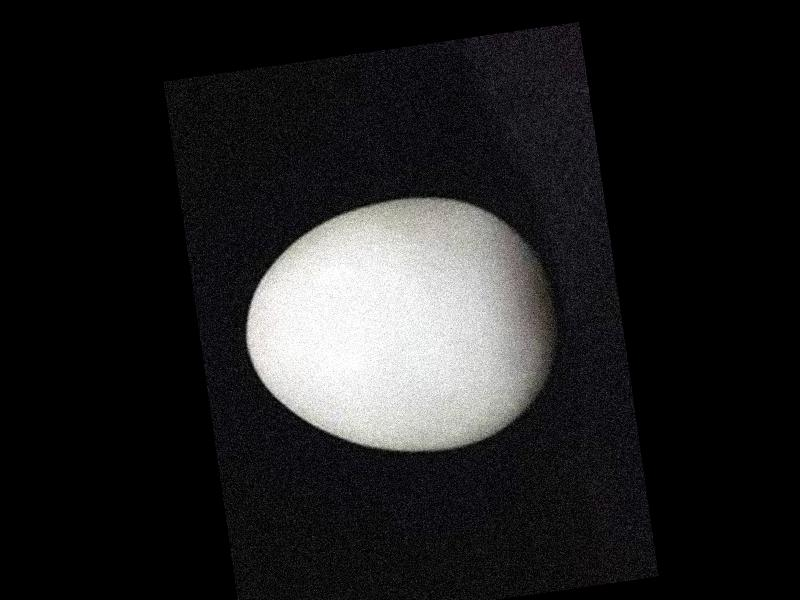Eggs: (231, 181, 575, 471)
